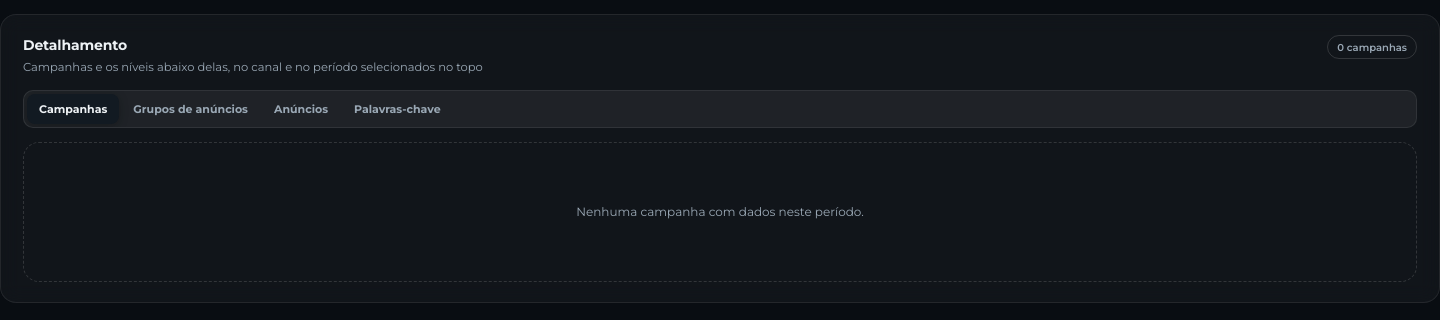
Test case: Palavras-chave renderizam quando os dados chegam › Franquias → Google Ads mostra a keyword herdada da campanha FRANQ, não a de COND
This screenshot has width=1440, height=320.
Click the tab "Palavras-chave".
click(397, 109)  # box [342,94,453,124]
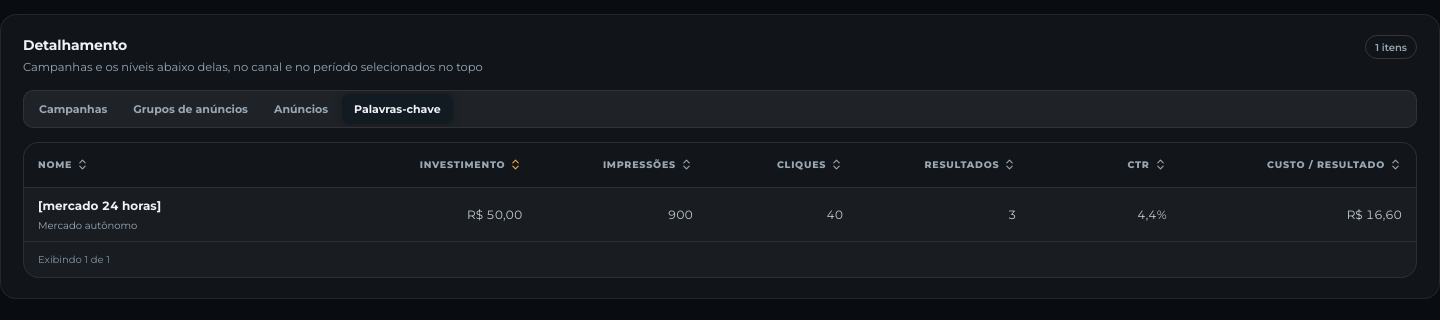
Now the row that starts with "[mercado 24 horas]" is shown, box [24,187,1416,241]
